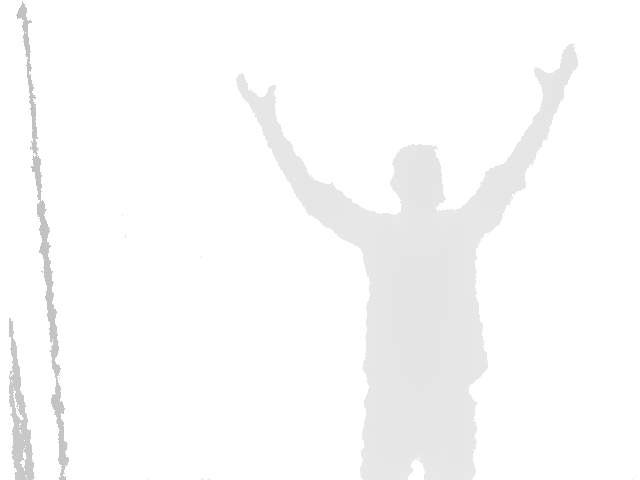hand: (533, 44, 579, 108), (235, 72, 278, 120)
head: (390, 143, 445, 211)
person: (234, 45, 580, 480)
